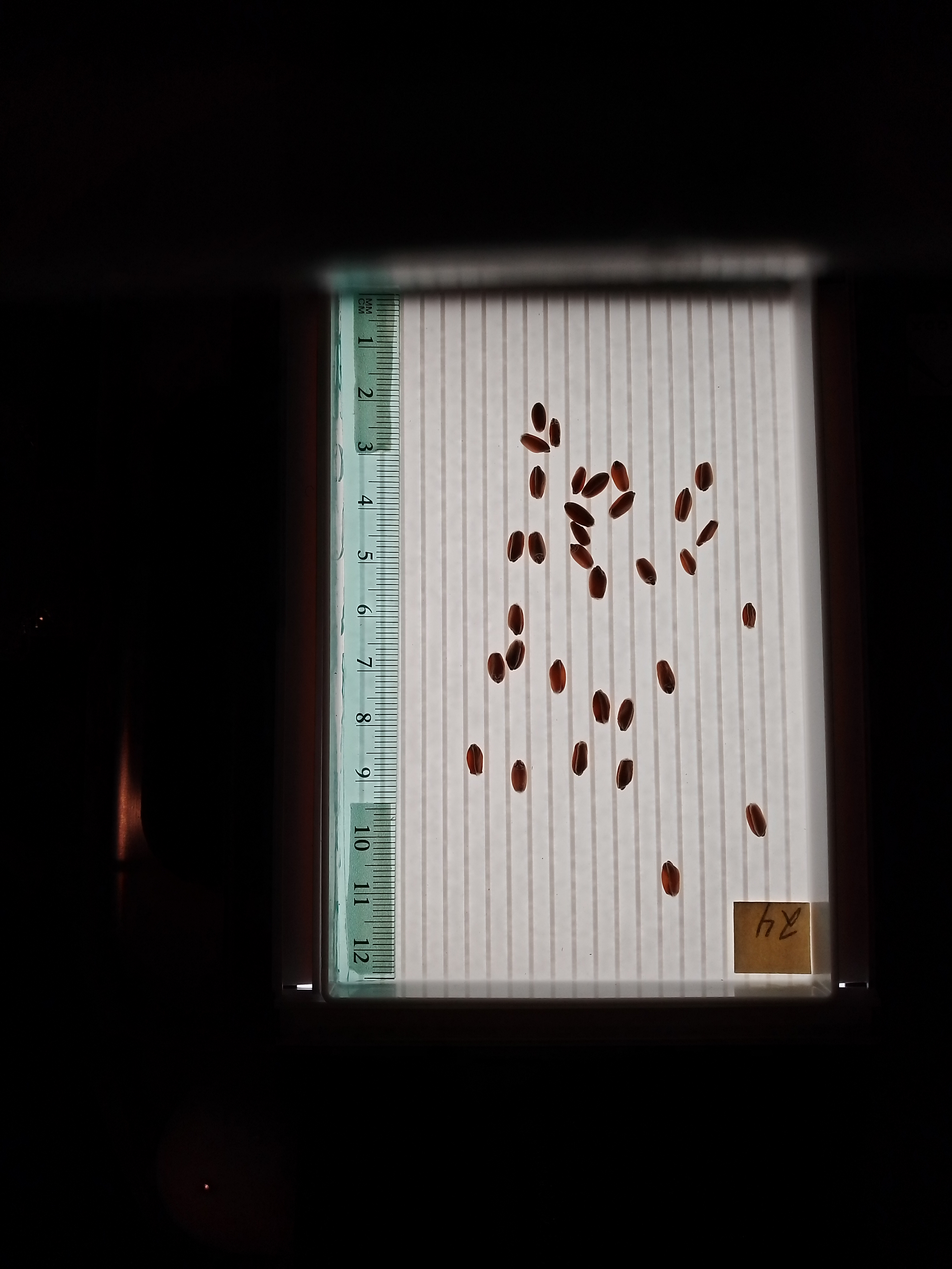seed mask: (745, 803, 767, 838), (565, 502, 594, 527), (610, 491, 634, 519), (661, 862, 680, 896), (583, 473, 609, 497), (588, 567, 607, 599), (592, 691, 610, 724), (657, 661, 675, 694), (675, 489, 692, 522), (511, 760, 528, 793), (521, 434, 549, 454), (570, 544, 592, 569), (529, 467, 546, 499), (611, 462, 629, 492), (636, 558, 656, 585), (697, 520, 717, 547), (506, 641, 524, 671), (487, 653, 505, 683), (572, 743, 588, 776), (528, 533, 545, 564), (617, 700, 634, 731), (507, 531, 524, 561), (617, 759, 633, 790), (508, 605, 524, 635), (550, 661, 565, 693), (467, 745, 483, 775), (696, 463, 713, 491), (532, 403, 547, 432), (572, 467, 587, 494), (680, 550, 696, 575), (572, 524, 590, 546), (743, 603, 757, 628), (549, 418, 561, 447)
